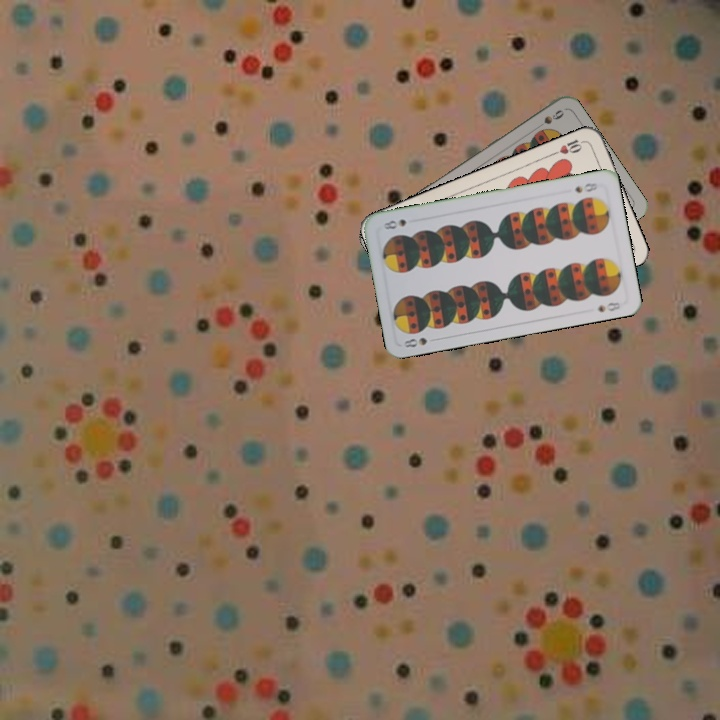H10: (548, 135, 587, 158)
S8: (400, 333, 440, 350), (570, 179, 600, 195)
S9: (530, 106, 567, 133)
